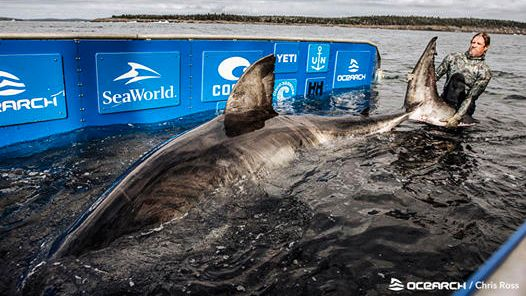shark: (50, 41, 459, 264)
